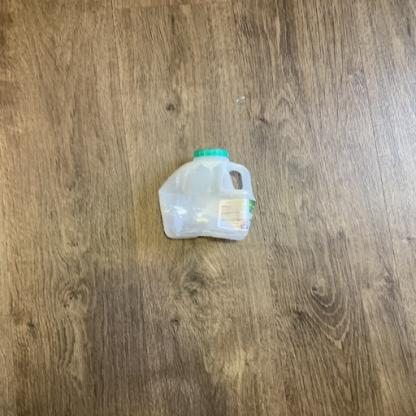trash: (153, 145, 255, 250)
